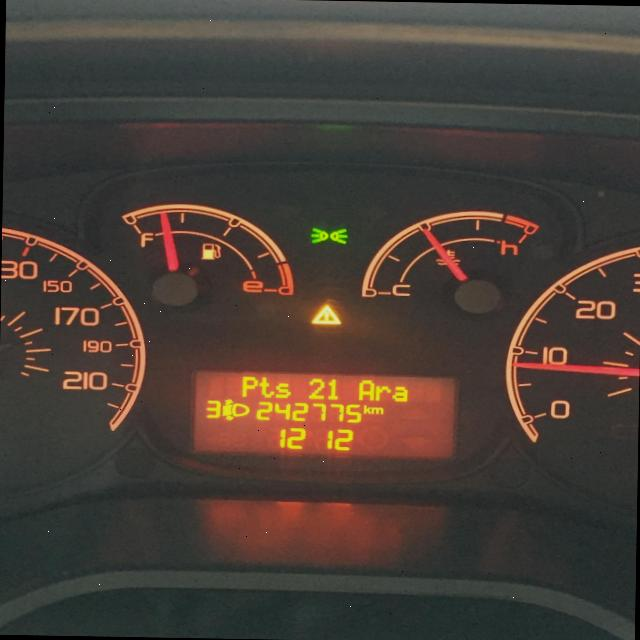odometer: (185, 362, 464, 466)
